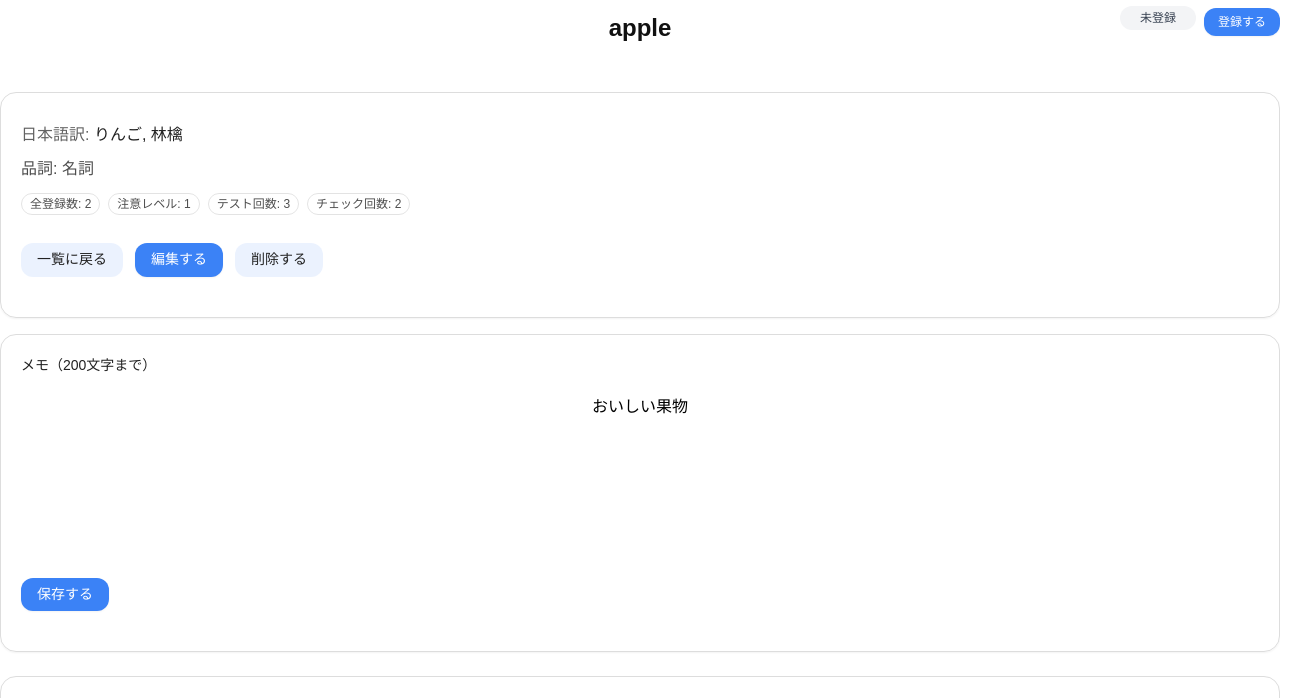
Scenario: WordShow › (10) 削除：失敗 → メッセージ表示
The width and height of the screenshot is (1292, 698).
Expected: the heading "apple" is shown, [609,12,671,44]
Click the button "削除する".
click(279, 260)  # box [235,243,323,276]
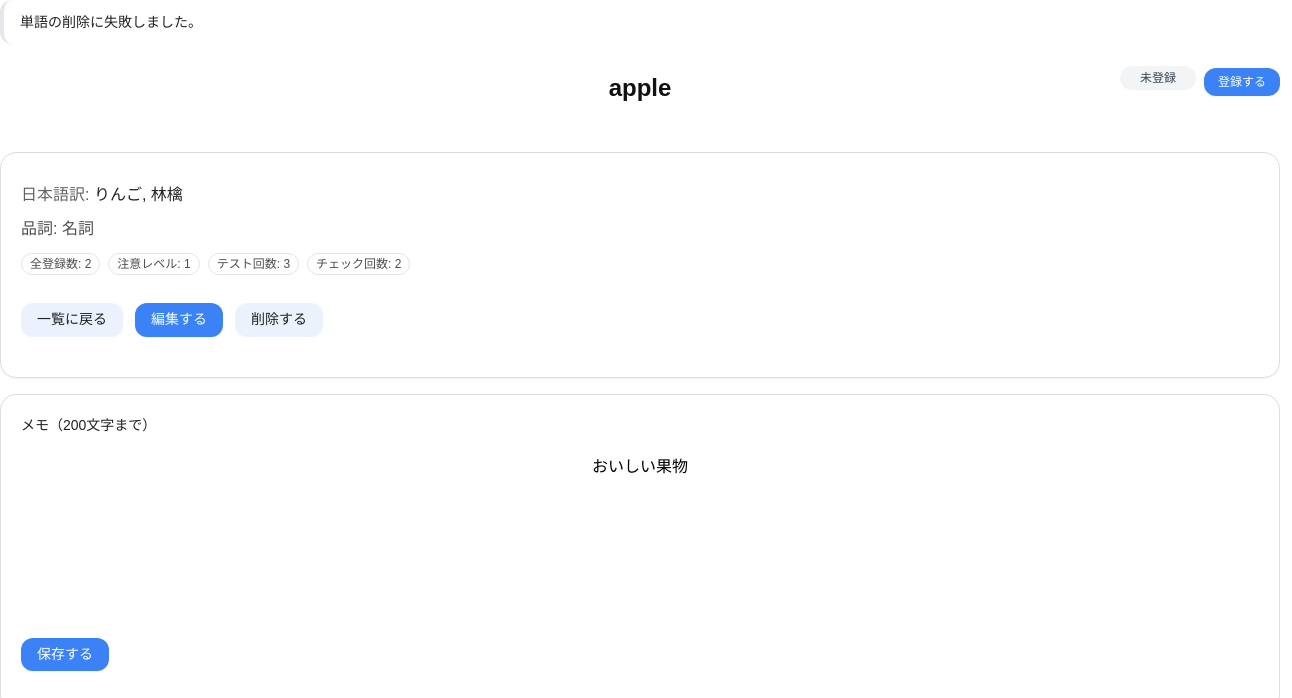
Now the text "単語の削除に失敗しました。" is shown, box [0,0,1280,44]
